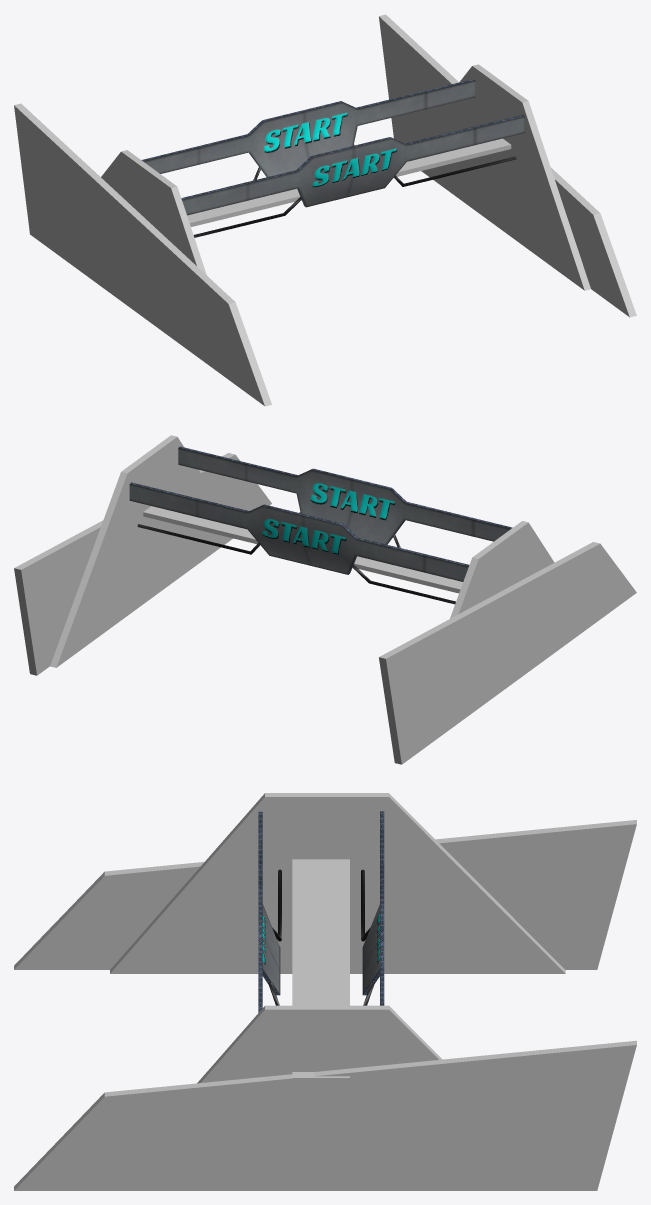
The model's file is Start_Point.FBX.
3 views of the same model, one above another, from view 1: azimuth 30°, elevation 25°; view 2: azimuth 150°, elevation 25°; view 3: azimuth 270°, elevation 25° (orthographic). The views are drawn at different scales.
Visible parts, largest first — view 1: Object007; view 2: Object007; view 3: Object007.
Part boxes in pixels (x1,y1,x2,y2): Object007: (14, 14, 636, 406); Object007: (14, 435, 636, 764); Object007: (14, 793, 636, 1190).
Bounding box in the file's own units: 17.91 × 6.52 × 20.81.
